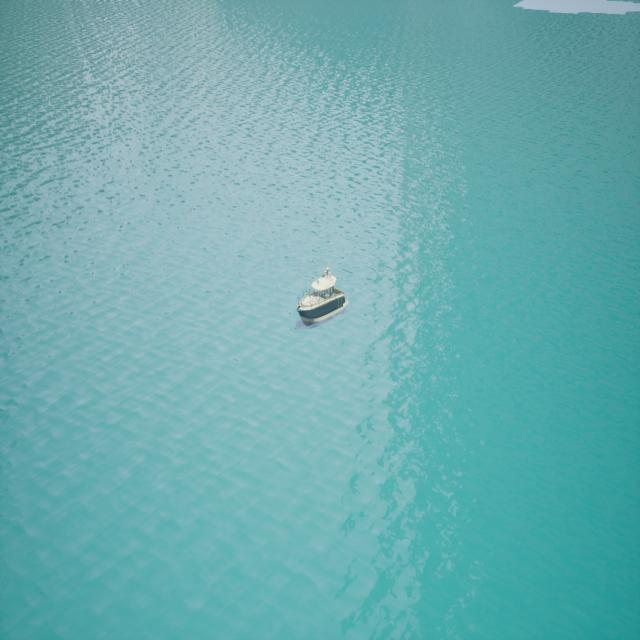ship: (296, 268, 348, 326)
